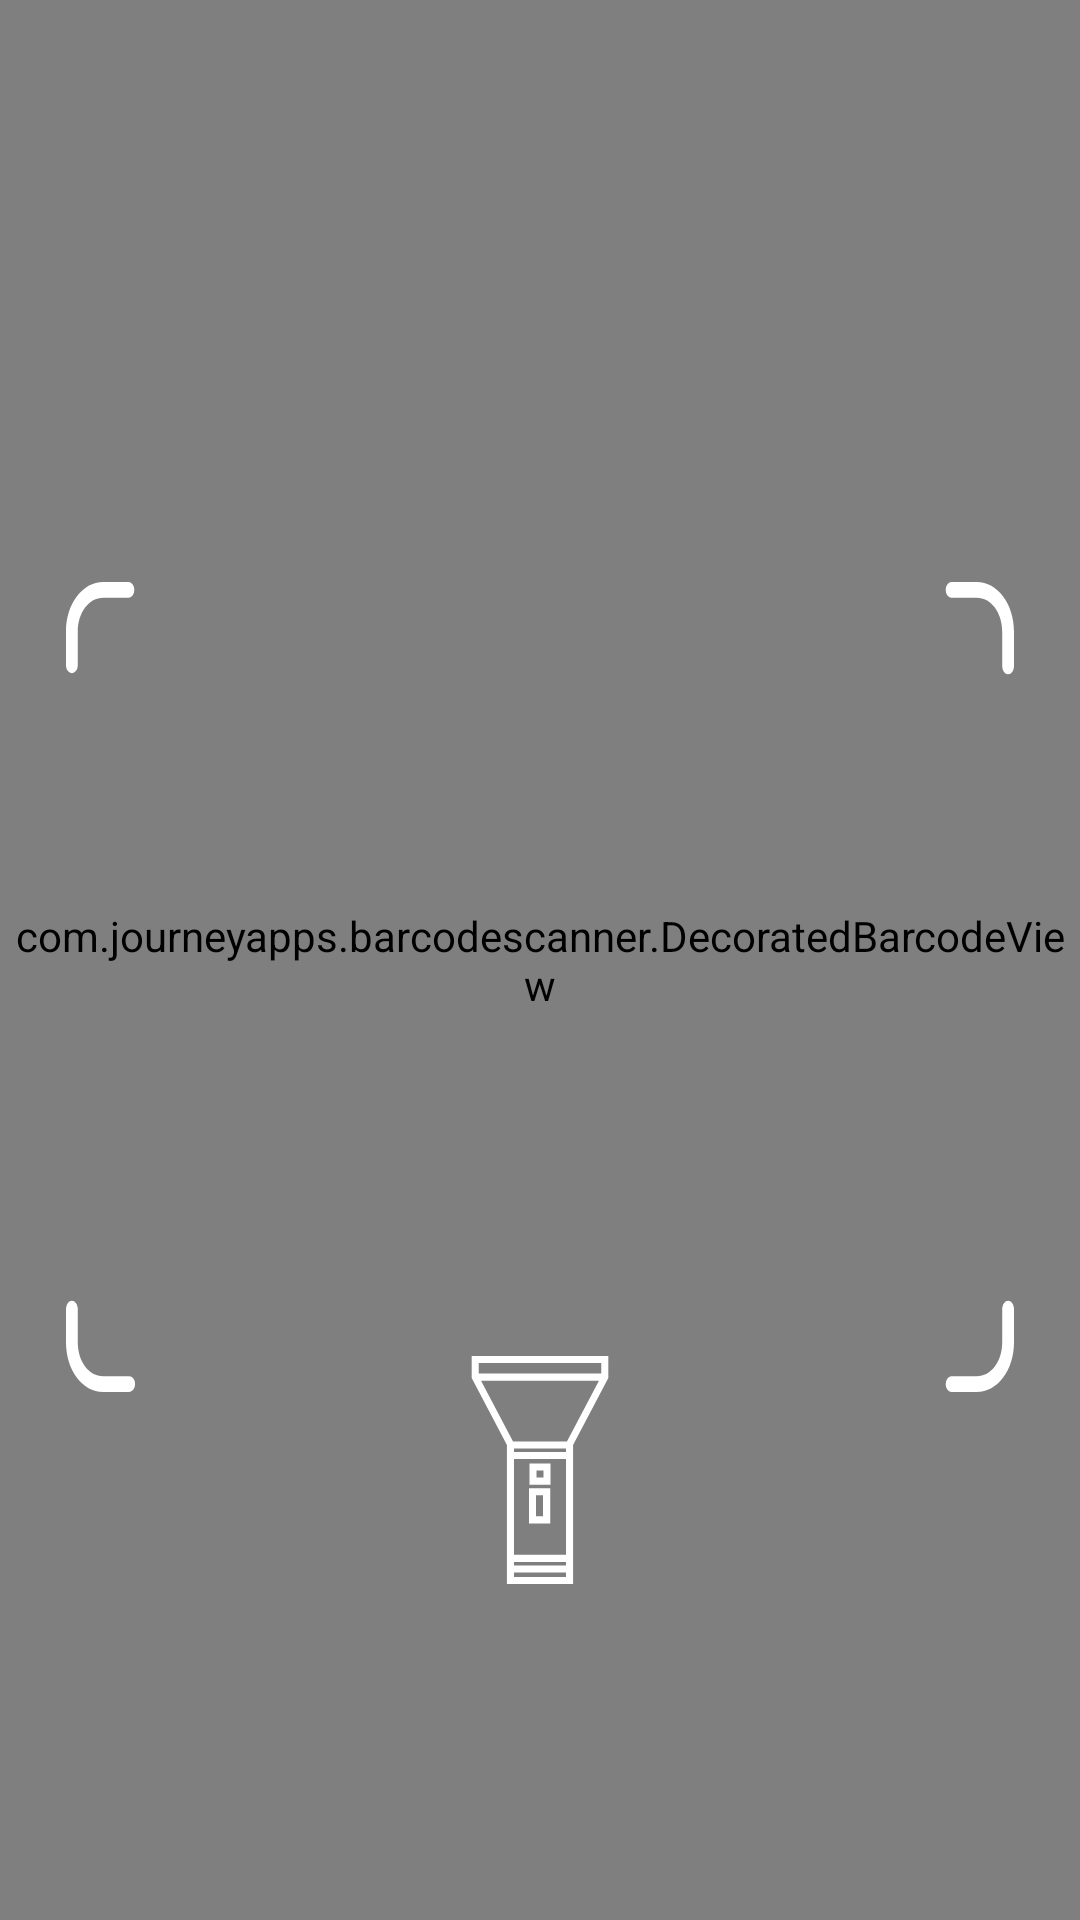

Point at icon controls on the screen. Image size 1080px x 1920px, points as (x,y).
flashlight: (540,1470)
